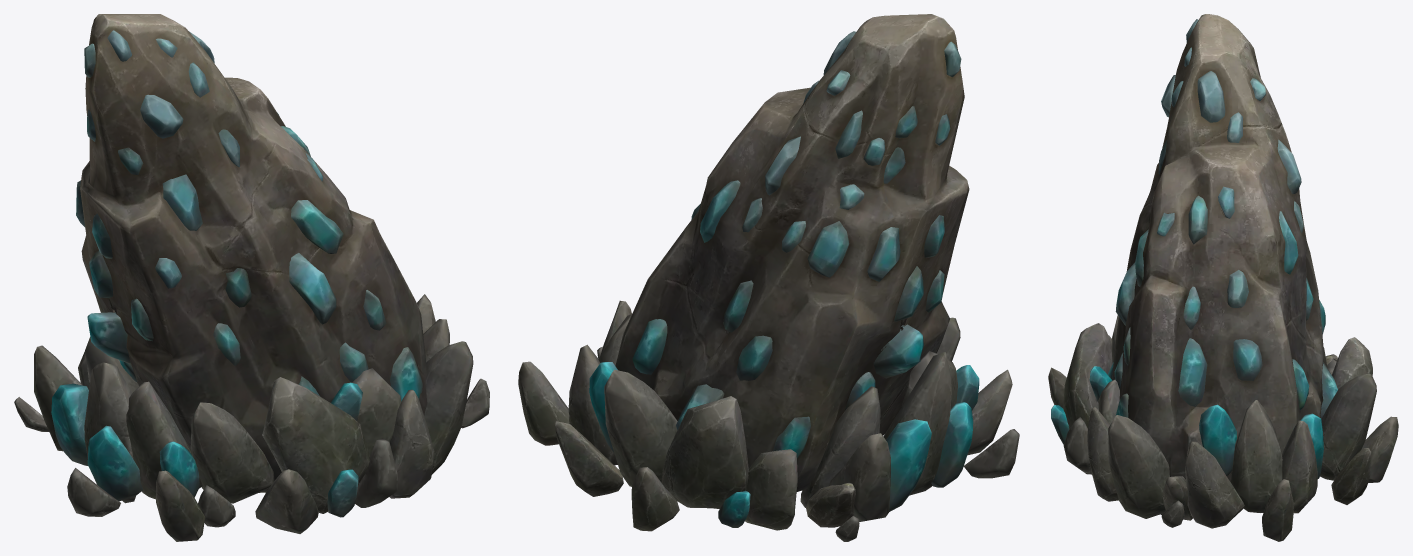
3 renders of one model, left to right at view 1: azimuth 30°, elevation 25°; view 2: azimuth 150°, elevation 25°; view 3: azimuth 270°, elevation 25°, orthographic. The views are drawn at different scales.
Visible parts, largest first — view 1: SM_Soul_Stone_01_LOD0; view 2: SM_Soul_Stone_01_LOD0; view 3: SM_Soul_Stone_01_LOD0.
Part boxes in pixels (x1,y1,x2,y2): SM_Soul_Stone_01_LOD0: (14,14,489,541); SM_Soul_Stone_01_LOD0: (518,14,1019,541); SM_Soul_Stone_01_LOD0: (1048,14,1398,541).
Bounding box in the file's own units: 3.52 × 3.85 × 3.07.
1 material, 1 textured.
